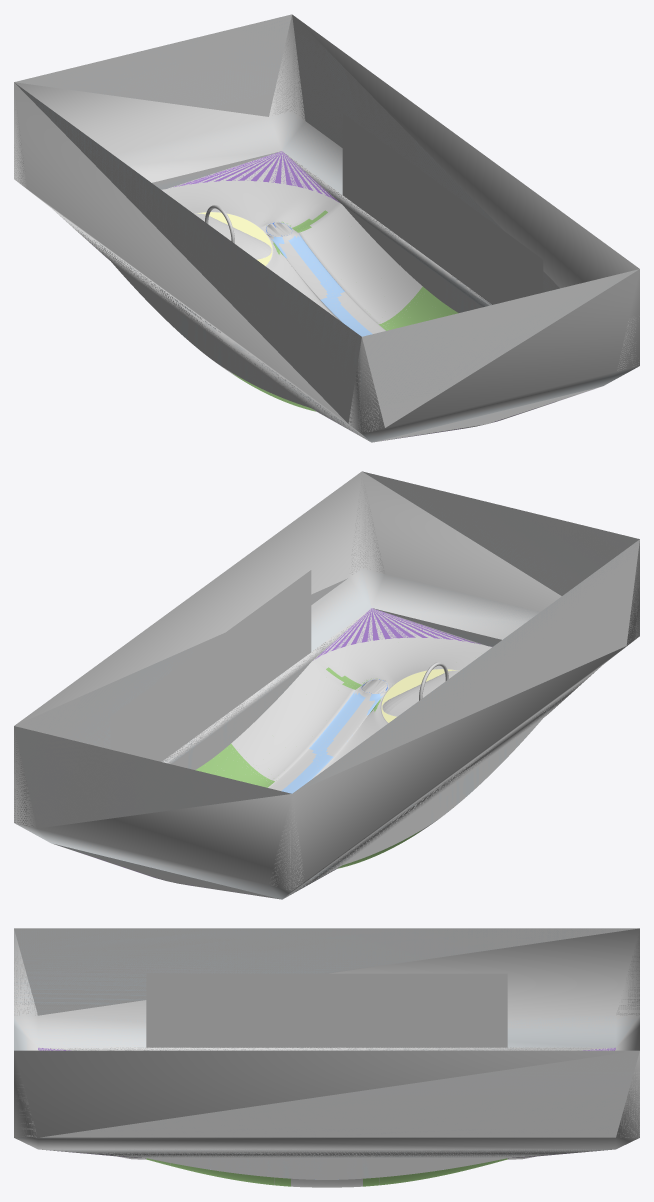
Rendered from arena.glb.
The picture shows the model from 3 angles, top to bottom: view 1: azimuth 30°, elevation 25°; view 2: azimuth 150°, elevation 25°; view 3: azimuth 270°, elevation 25°; orthographic projection. The views are drawn at different scales.
Parts seen in each view (by area): view 1: COL_Barriers, COL_Court, VIS_Corner NE, VIS_Stream_Organic, VIS_Outer_Field_Wall_Organic, VIS_Scoring Circle N; view 2: COL_Barriers, COL_Court, VIS_Corner SE, VIS_Stream_Organic, VIS_Outer_Field_Wall_Organic, VIS_Scoring Circle S; view 3: COL_Barriers, VIS_Outer_Field_Wall_Organic, COL_Court.
Boxes of the visible parts, x1,y1,x2,y2 form: COL_Barriers: [14, 14, 639, 442]; COL_Court: [162, 180, 422, 378]; VIS_Corner NE: [173, 151, 339, 202]; VIS_Stream_Organic: [270, 234, 372, 336]; VIS_Outer_Field_Wall_Organic: [232, 286, 458, 411]; VIS_Scoring Circle N: [194, 212, 273, 265]; COL_Barriers: [14, 471, 639, 899]; COL_Court: [231, 637, 491, 835]; VIS_Corner SE: [313, 608, 480, 660]; VIS_Stream_Organic: [281, 691, 383, 793]; VIS_Outer_Field_Wall_Organic: [195, 743, 421, 868]; VIS_Scoring Circle S: [381, 669, 459, 722]; COL_Barriers: [14, 928, 639, 1179]; VIS_Outer_Field_Wall_Organic: [146, 1158, 507, 1186]; COL_Court: [119, 1156, 534, 1187].
Size of the model in its own units: 60 by 38 by 130.
